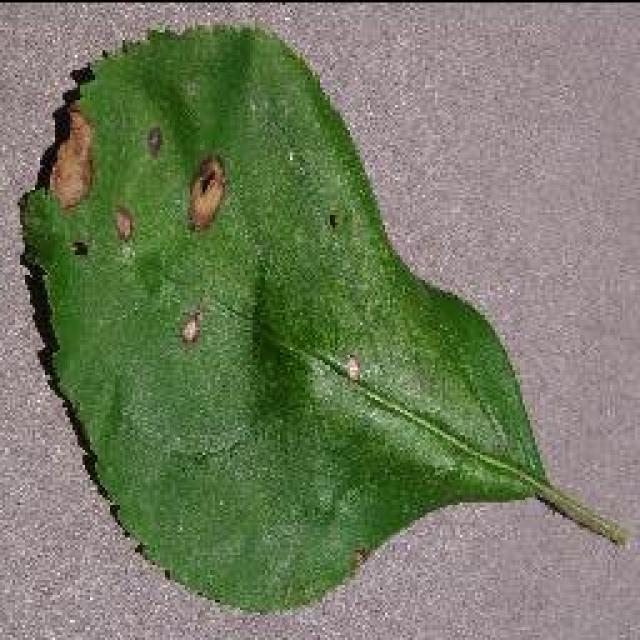apple black rot: (15, 17, 627, 615)
